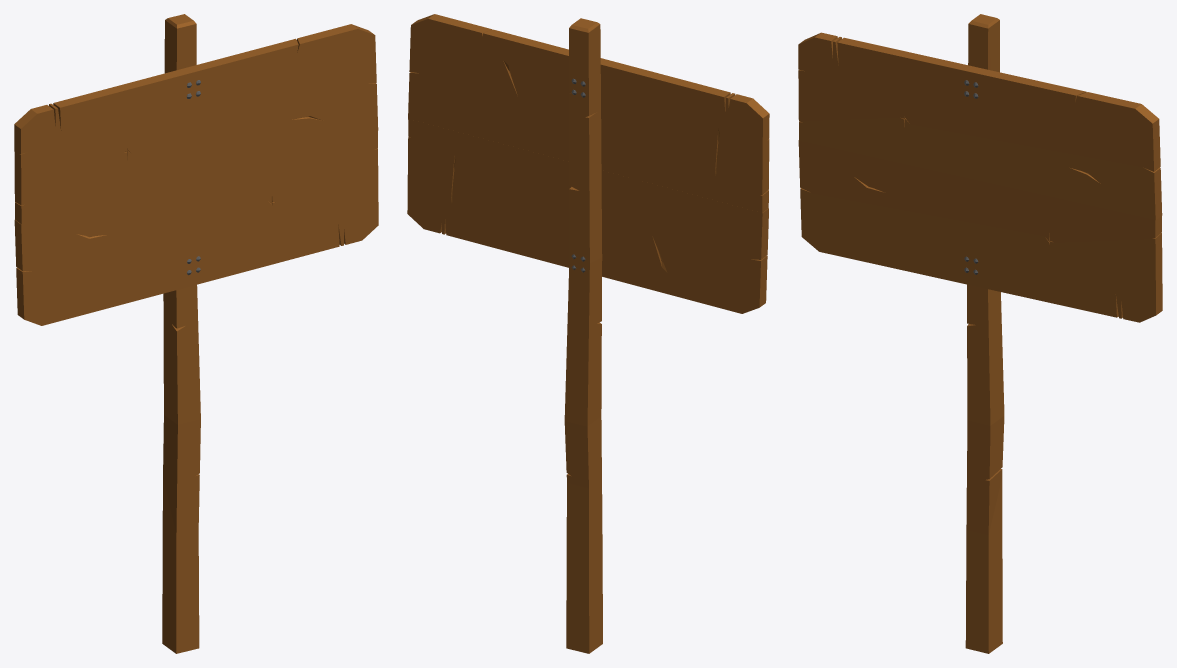
The model's file is cartelloTutorial.fbx.
3 views of the same model, side by side, from view 1: azimuth 30°, elevation 25°; view 2: azimuth 150°, elevation 25°; view 3: azimuth 330°, elevation 25° (orthographic).
Visible parts, largest first — view 1: Cube.001, Cube; view 2: Cube.001, Cube; view 3: Cube.001, Cube.
Part boxes in pixels (x1,y1,x2,y2): Cube.001: [14, 24, 378, 325]; Cube: [162, 14, 200, 653]; Cube.001: [407, 14, 769, 313]; Cube: [564, 18, 602, 653]; Cube.001: [798, 32, 1162, 322]; Cube: [965, 14, 1004, 653].
Bounding box in the file's own units: 250 × 418 × 25.33.
